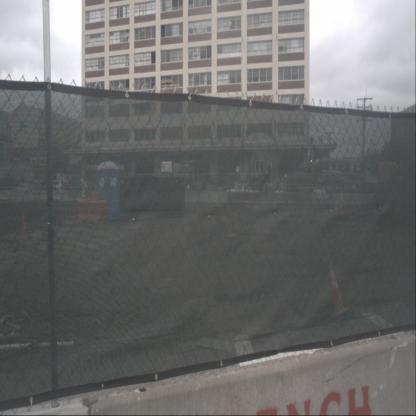barrier: (78, 200, 108, 224)
cone: (328, 255, 350, 318), (20, 209, 28, 233), (338, 190, 345, 217)
